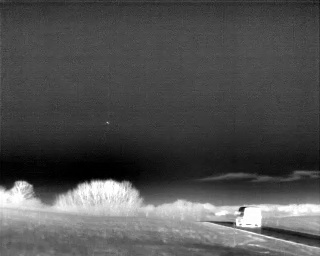BIRD: (104, 119, 112, 128)
